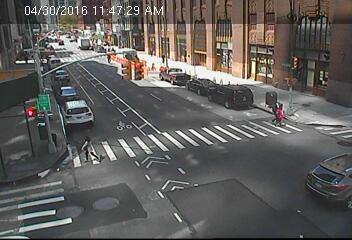neg: (168, 123, 212, 182), (300, 167, 329, 206), (237, 159, 263, 194), (21, 183, 43, 213), (131, 67, 152, 94), (112, 94, 132, 121), (141, 194, 161, 221), (75, 191, 92, 214), (19, 108, 32, 126), (308, 63, 321, 80), (253, 15, 264, 30), (134, 27, 145, 41), (202, 34, 212, 48), (64, 32, 74, 46), (84, 4, 93, 16), (327, 157, 336, 168), (309, 31, 317, 41), (106, 18, 113, 29), (160, 23, 167, 33), (177, 7, 184, 16)
